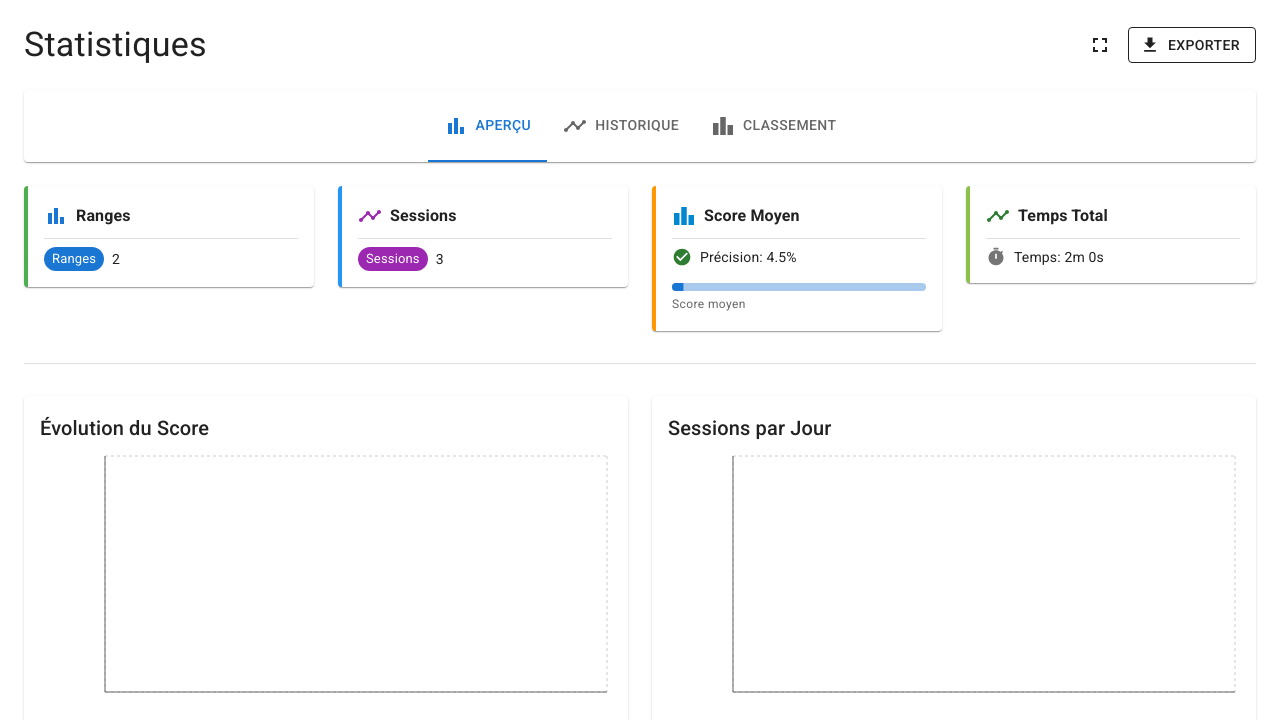
it: Stats page › switches to the leaderboard tab and shows the empty state
Click the tab "Classement" at [774, 126], box [695,90,852,162]
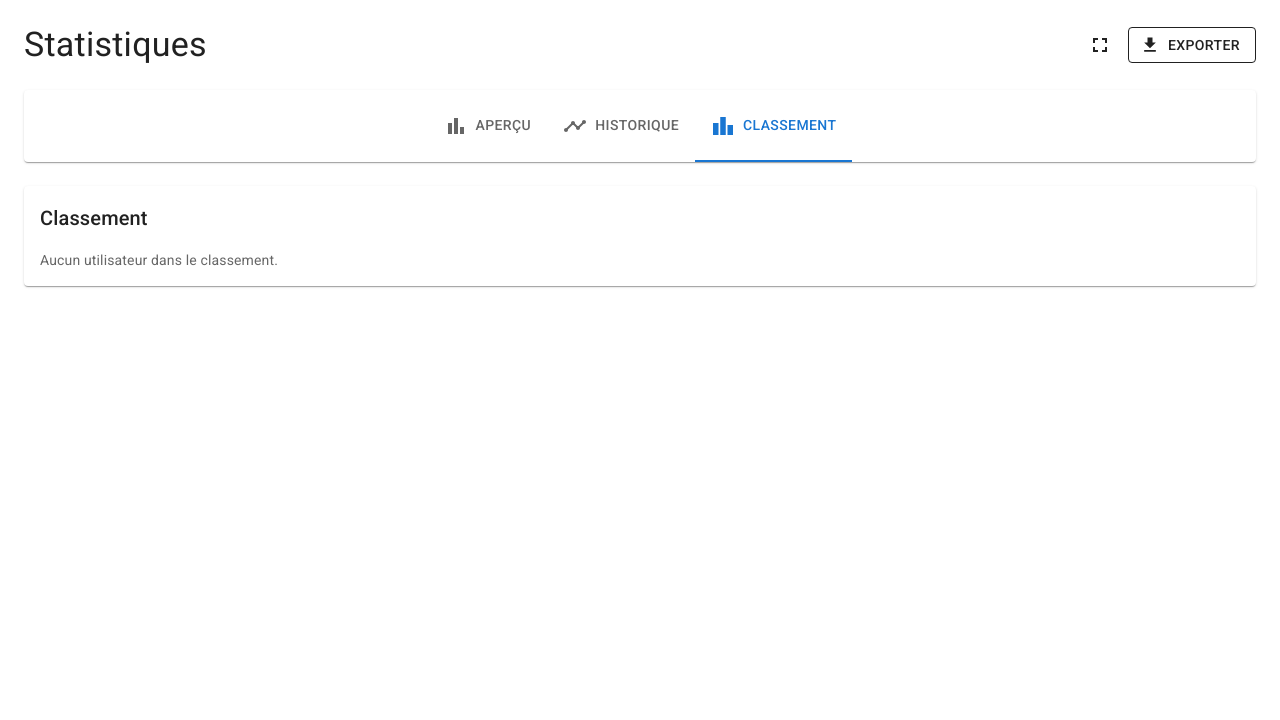
Check: the text "Aucun utilisateur dans le classement." is shown, box [40,252,278,268]
